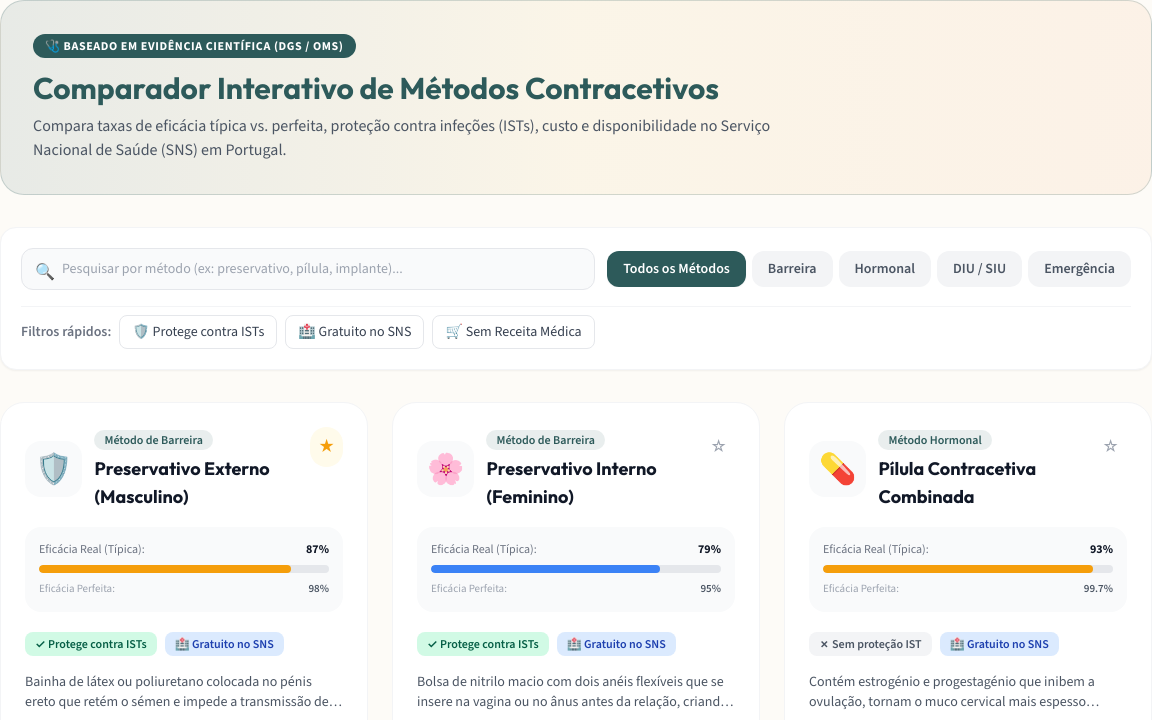
Scenario: ContraceptiveComparator › filters methods by no prescription toggle
Click the button "🛒 Sem Receita Médica" at (514, 332), box [432,315,595,349]
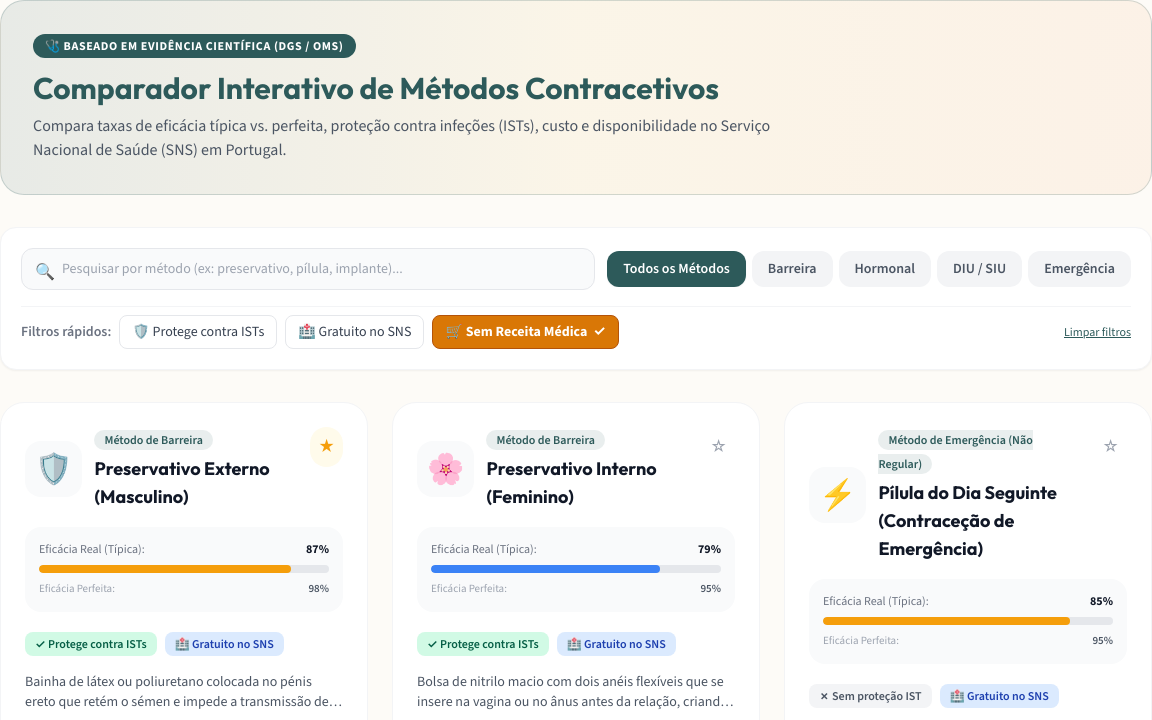
Check: the heading "Preservativo Externo (Masculino)" is shown, box [94,455,298,511]
Check: the heading "Pílula Contracetiva Combinada" is gone
